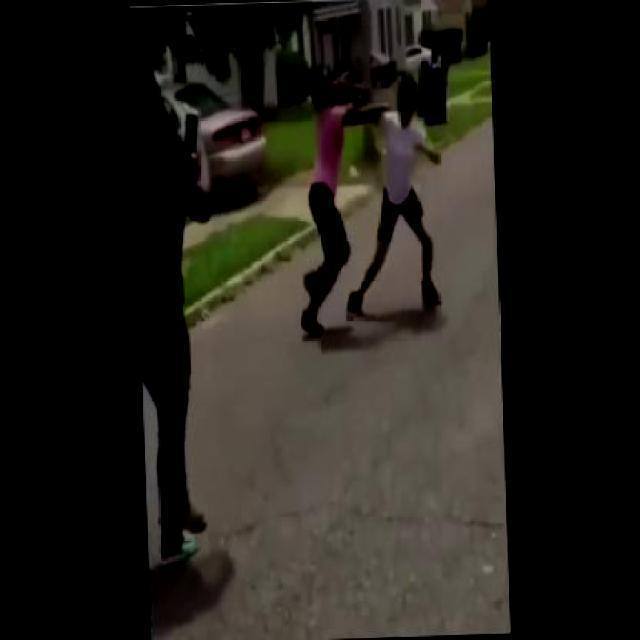fight: (292, 58, 446, 334)
